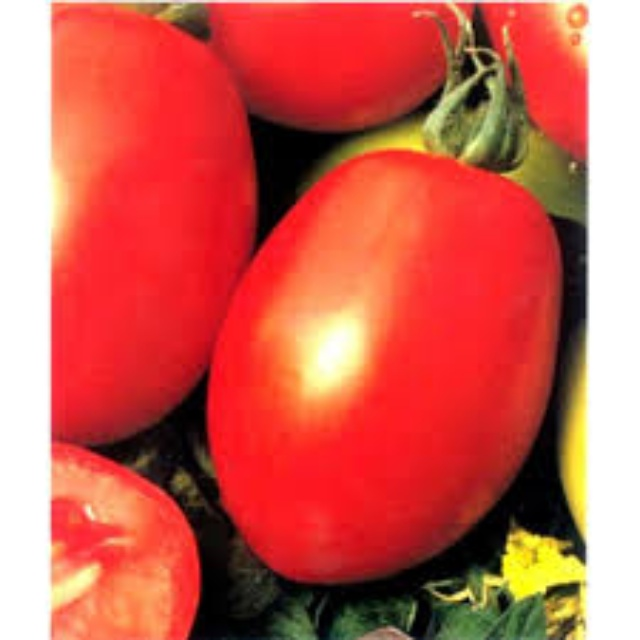tomato: (215, 143, 559, 582), (53, 9, 243, 441), (204, 6, 480, 131)
